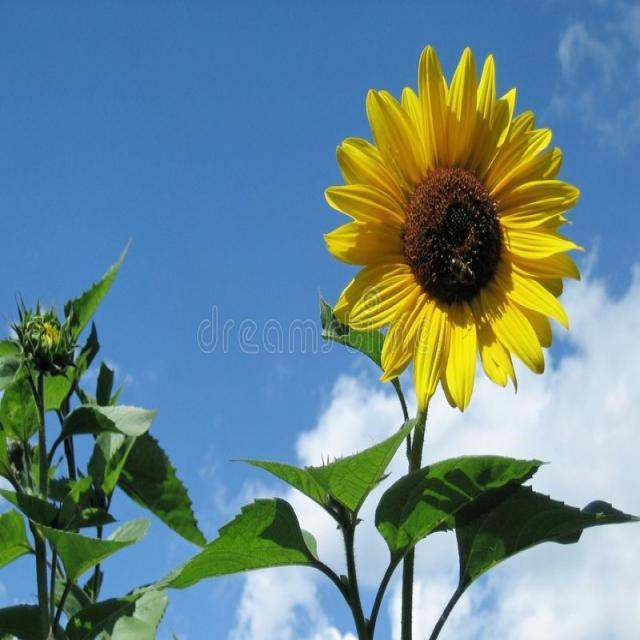sunflower: (322, 37, 580, 419)
